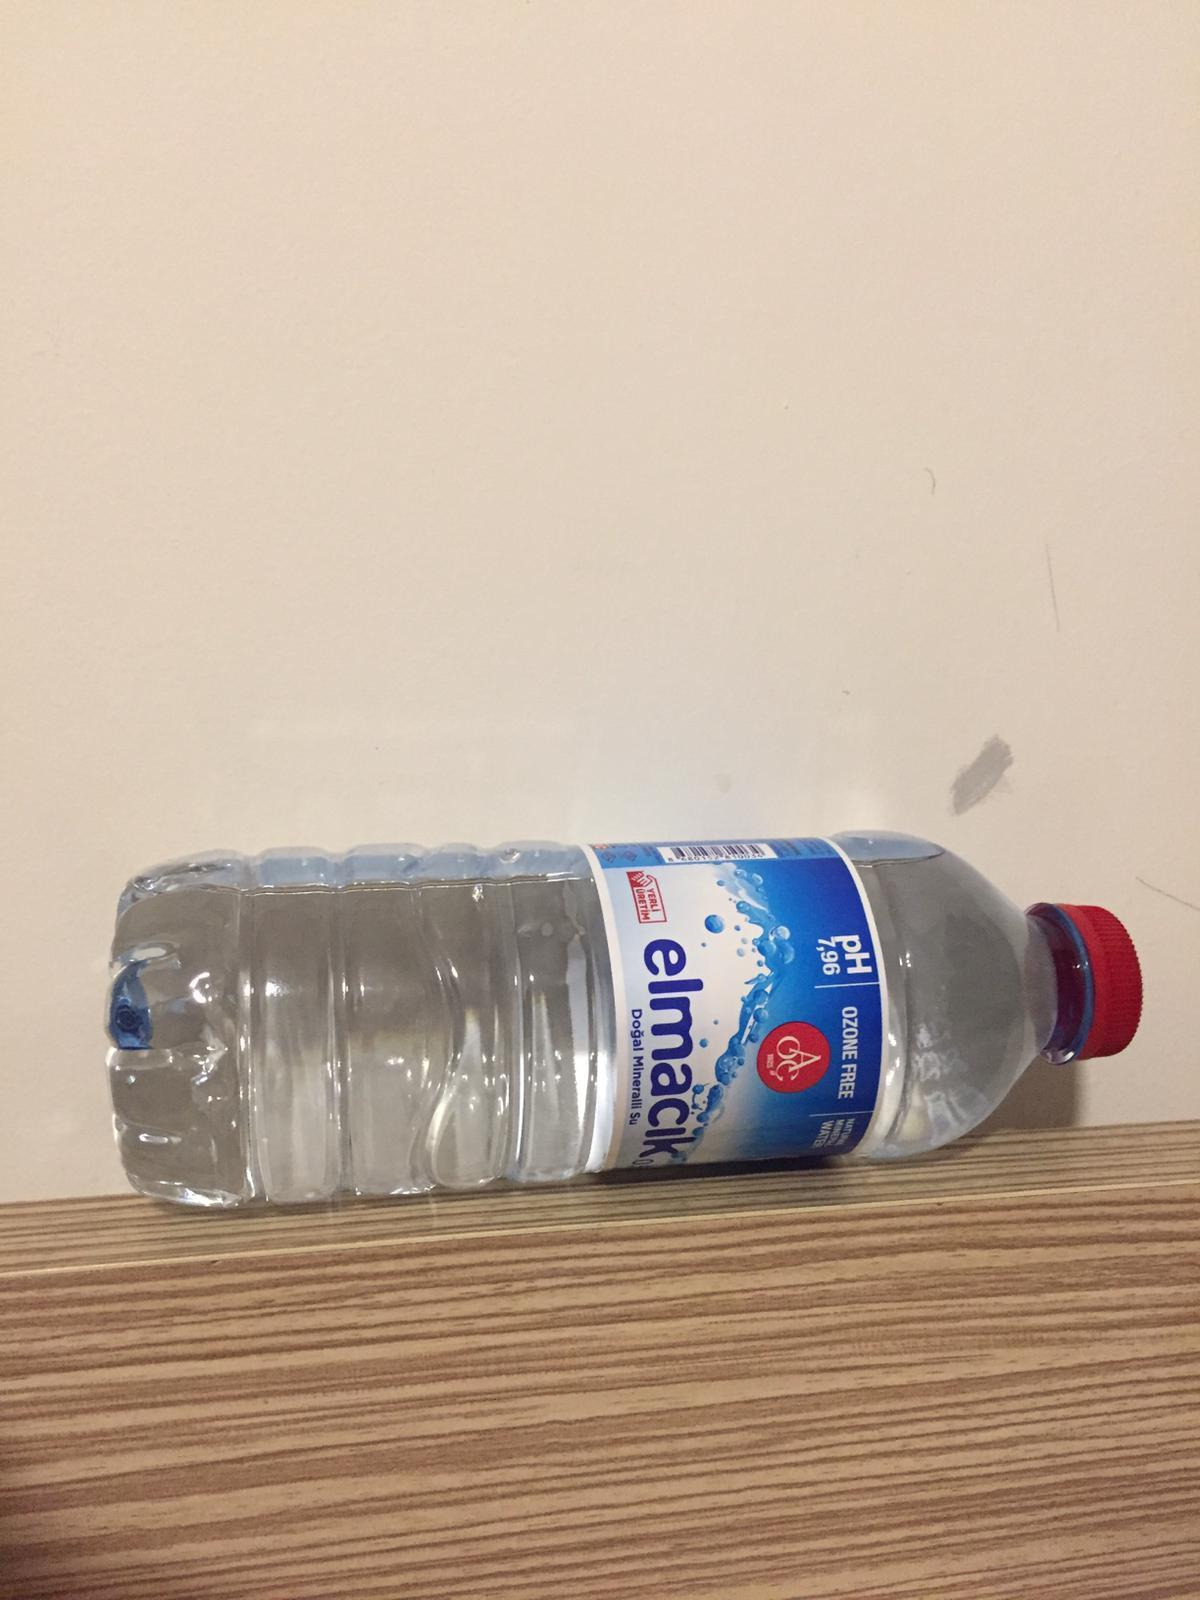bottle: (117, 821, 1148, 1204)
